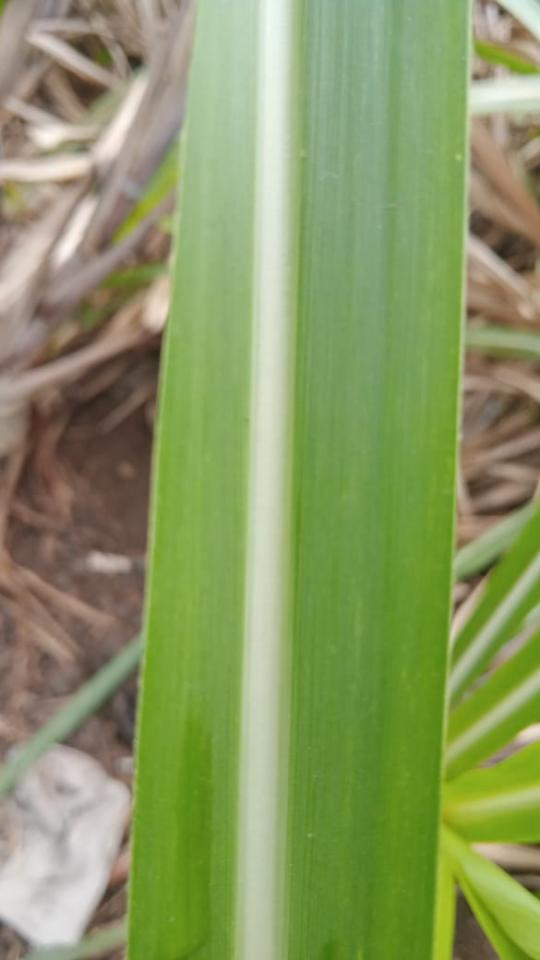Healthy: (130, 0, 468, 959)
